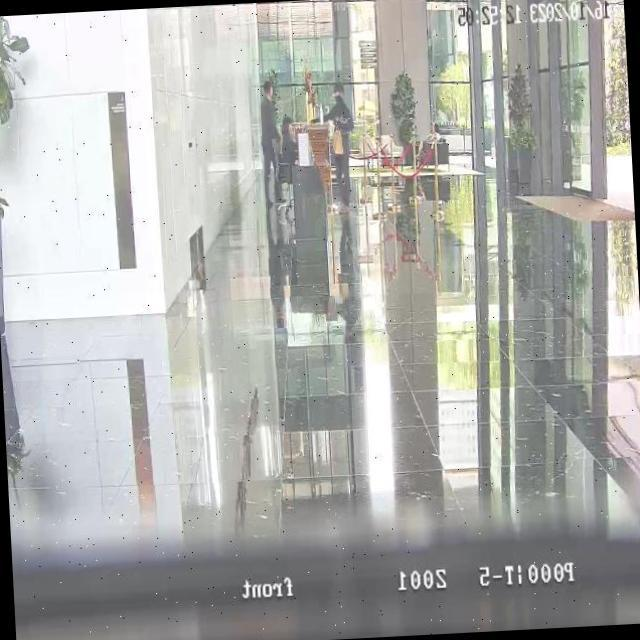person: (322, 83, 358, 215), (257, 76, 284, 207), (411, 122, 441, 170), (278, 116, 300, 178)
